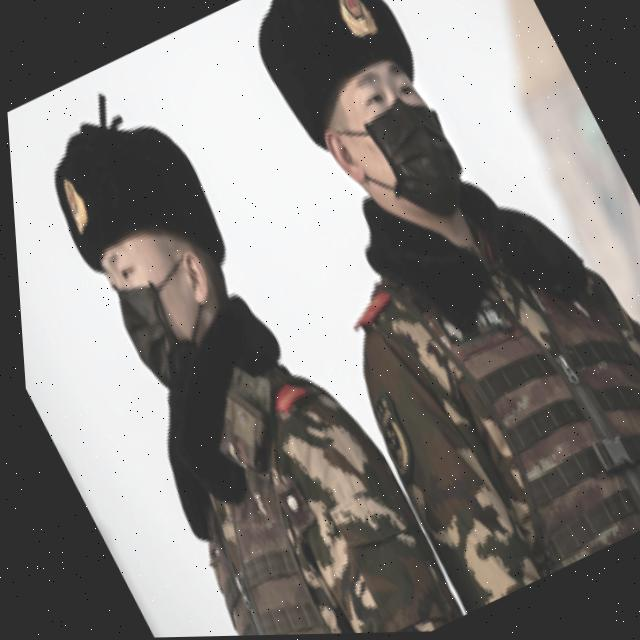Mask: (322, 88, 483, 254), (96, 246, 239, 390)
